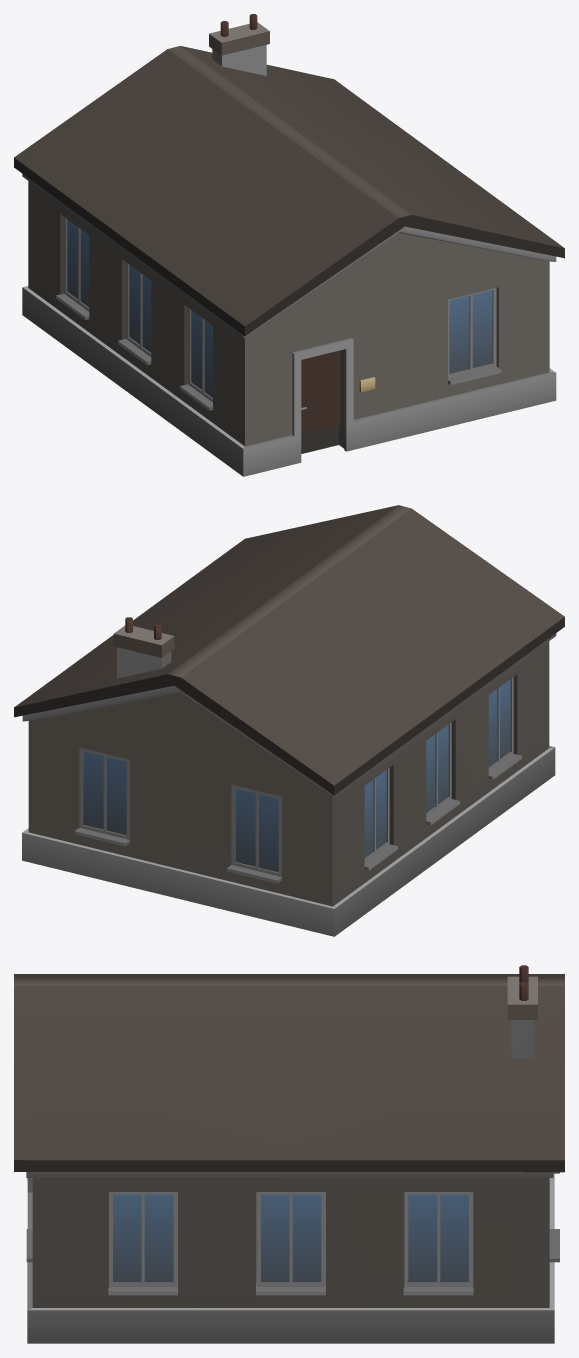
Rendered from buildings-business-smallbusiness_v2.glb.
3 renders of one model, top to bottom at view 1: azimuth 30°, elevation 25°; view 2: azimuth 150°, elevation 25°; view 3: azimuth 270°, elevation 25°, orthographic. The views are drawn at different scales.
Visible parts, largest first — view 1: SmallBusiness_v2_base, SmallBusiness_v2_color, SmallBusiness_v2_windowRefl; view 2: SmallBusiness_v2_base, SmallBusiness_v2_color, SmallBusiness_v2_windowRefl; view 3: SmallBusiness_v2_base, SmallBusiness_v2_color, SmallBusiness_v2_windowRefl.
Part boxes in pixels (left/top/right/bottom): SmallBusiness_v2_base: left=14, top=14, right=564, bottom=476; SmallBusiness_v2_color: left=28, top=181, right=549, bottom=446; SmallBusiness_v2_windowRefl: left=67, top=219, right=492, bottom=397; SmallBusiness_v2_base: left=14, top=505, right=564, bottom=936; SmallBusiness_v2_color: left=28, top=641, right=549, bottom=906; SmallBusiness_v2_windowRefl: left=83, top=679, right=510, bottom=872; SmallBusiness_v2_base: left=14, top=965, right=564, bottom=1343; SmallBusiness_v2_color: left=32, top=1178, right=549, bottom=1307; SmallBusiness_v2_windowRefl: left=113, top=1194, right=468, bottom=1282.
Bounding box in the file's own units: 14.79 × 11.28 × 18.48.
